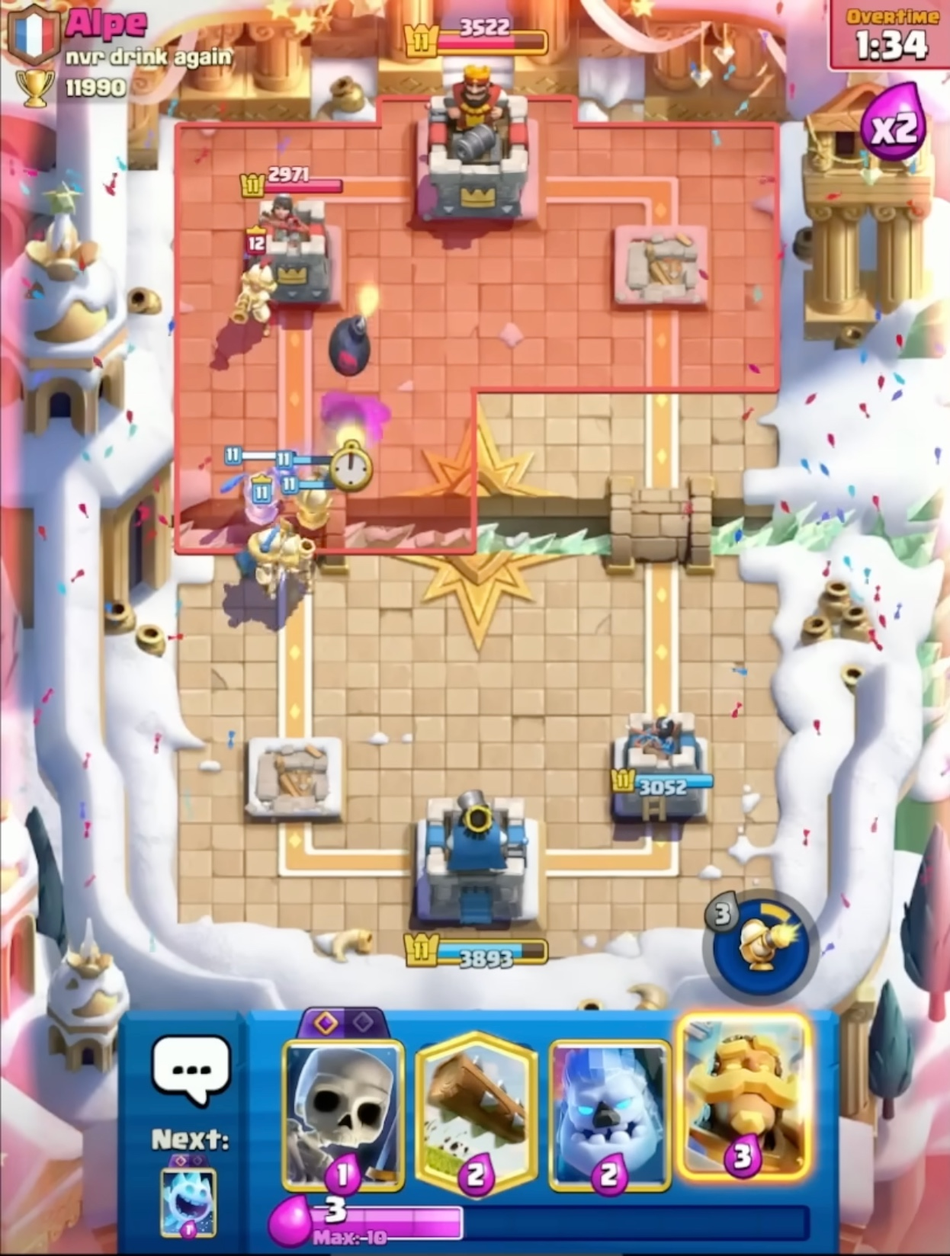hero-musketeer: (226, 223, 281, 334)
